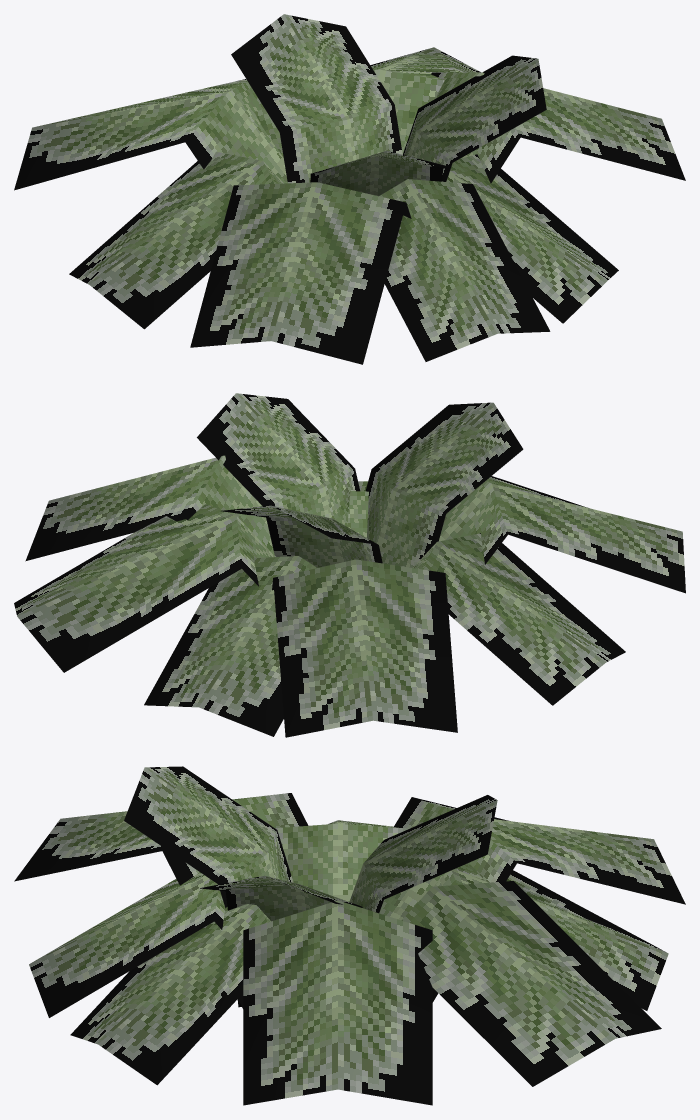
The model's file is sbushtro_0.obj.
3 views of the same model, one above another, from view 1: azimuth 30°, elevation 25°; view 2: azimuth 150°, elevation 25°; view 3: azimuth 270°, elevation 25° (orthographic). The views are drawn at different scales.
Visible parts, largest first — view 1: sbushtro_0; view 2: sbushtro_0; view 3: sbushtro_0.
Part boxes in pixels (left/top/right/bottom): sbushtro_0: left=14, top=14, right=685, bottom=364; sbushtro_0: left=14, top=393, right=685, bottom=737; sbushtro_0: left=14, top=766, right=685, bottom=1105.
Bounding box in the file's own units: 3.84 × 1.31 × 3.66.
